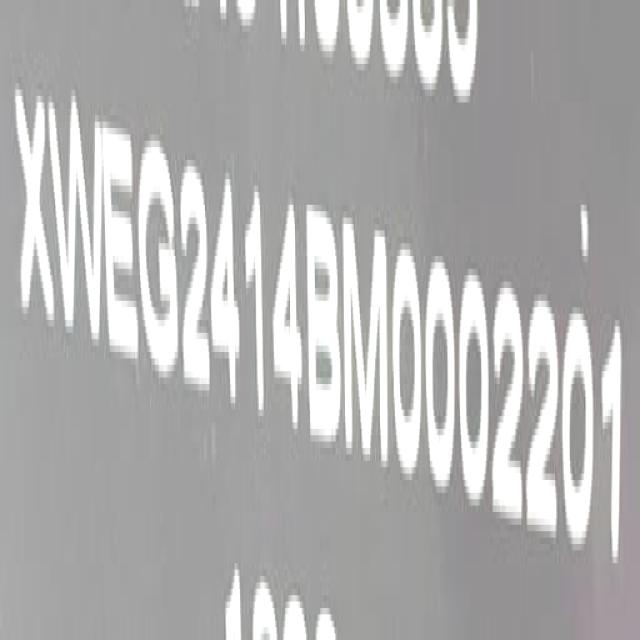0: (559, 306, 596, 569), (456, 264, 488, 516), (393, 234, 425, 483), (426, 252, 456, 500)
1: (602, 319, 624, 566), (244, 176, 265, 430)
2: (493, 281, 526, 533), (527, 290, 560, 541), (182, 154, 214, 400)
4: (273, 187, 306, 444), (211, 164, 242, 418)
B: (304, 194, 342, 456)
E: (104, 113, 139, 373)
G: (136, 131, 178, 391)
M: (342, 213, 390, 473)
W: (48, 79, 106, 359)
X: (15, 71, 56, 348)
